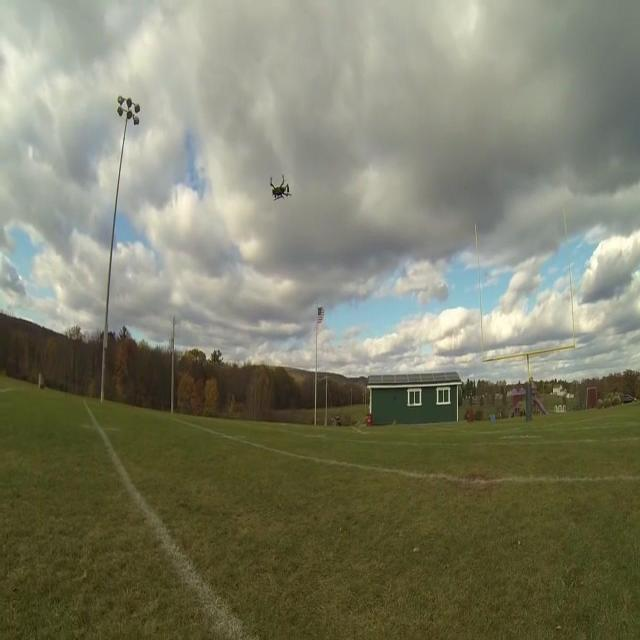drone: (268, 170, 292, 206)
